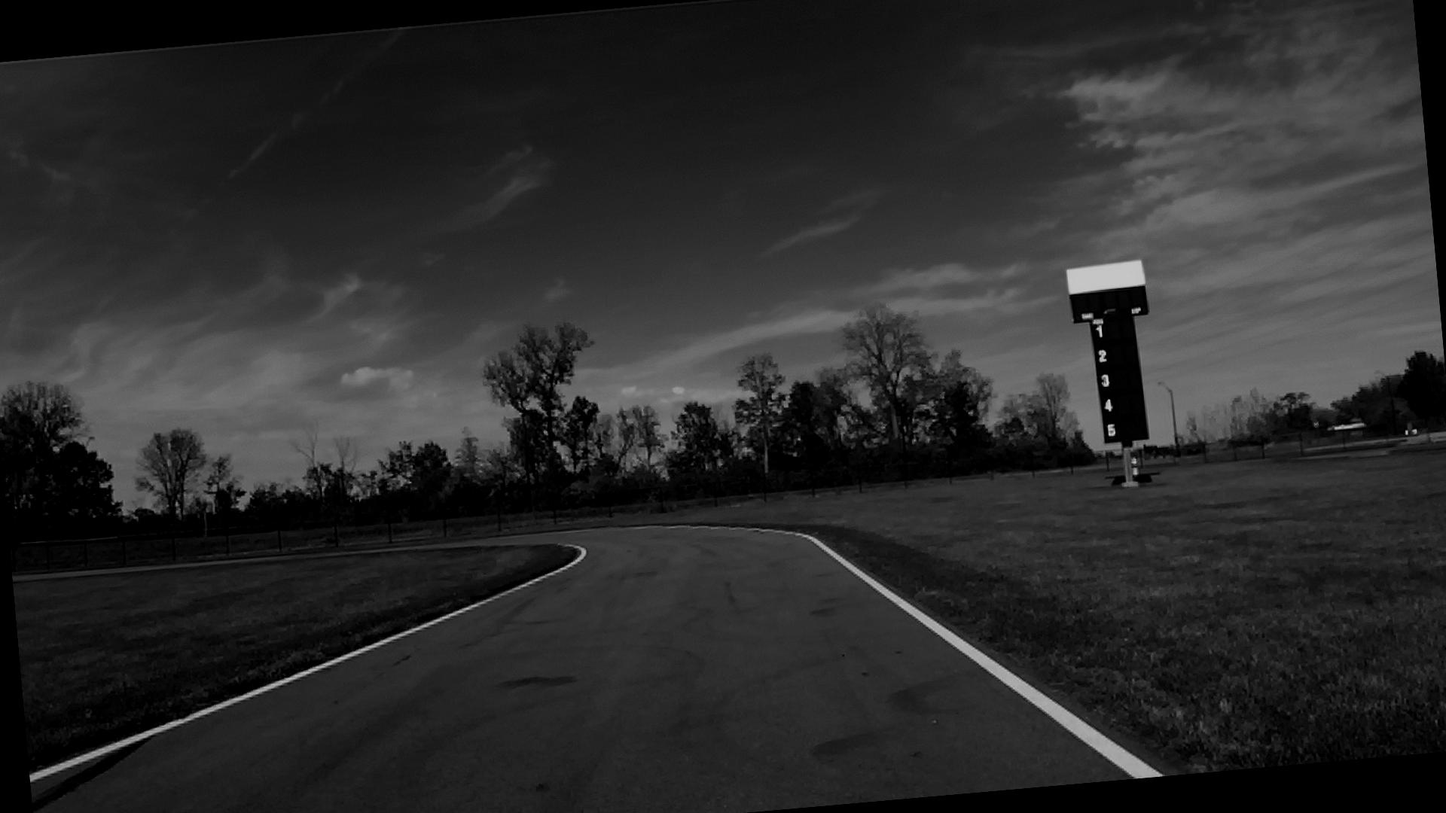white-line: (29, 543, 585, 782), (685, 525, 1162, 778)
